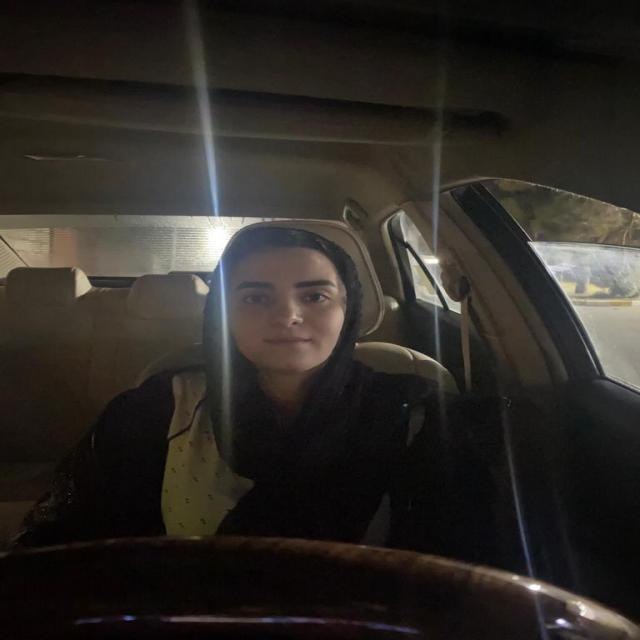person: (221, 238, 367, 374)
